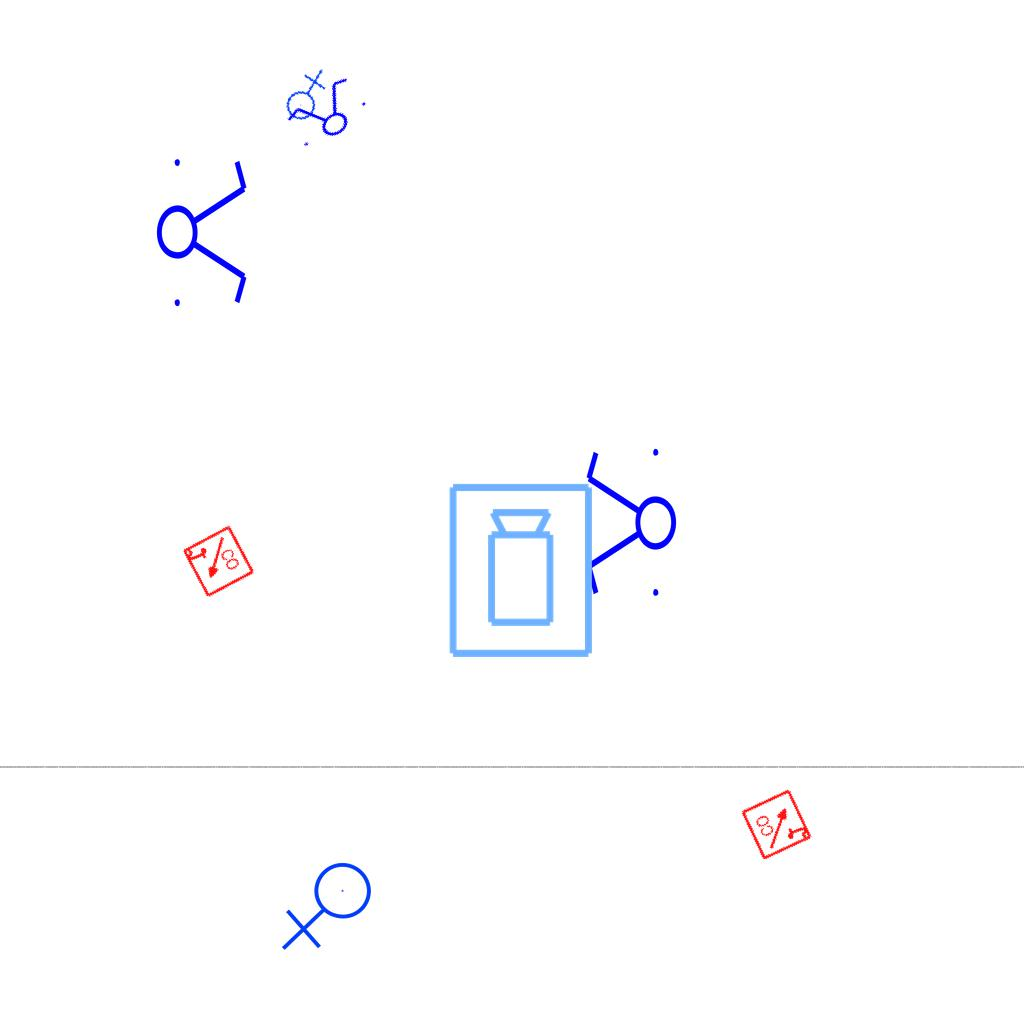Elektroanschluss_allgemein_230V_Geraeteanschlussdose_230V: (281, 861, 380, 955), (274, 66, 335, 125)
KFO_Kamera_mit_Festobjektiv: (445, 480, 599, 662)
ROA_Rauchmelder_optisch_mit_Signalgeber_(Sockelsirene): (739, 786, 815, 862), (180, 524, 256, 600)
Serienschalter: (582, 440, 678, 608), (155, 147, 251, 315), (278, 70, 376, 158)
